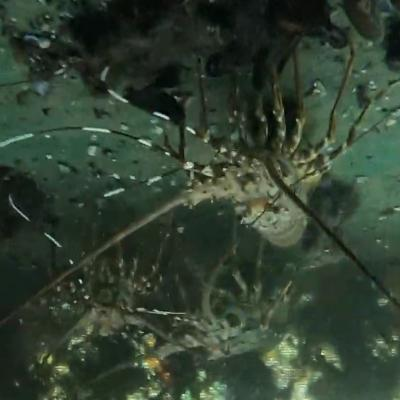lobster: (214, 81, 324, 245), (61, 227, 153, 344), (191, 259, 294, 363)
